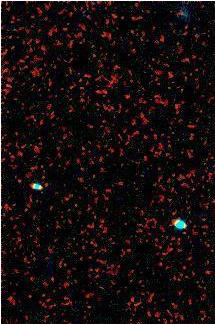star: (9, 165, 39, 195)
